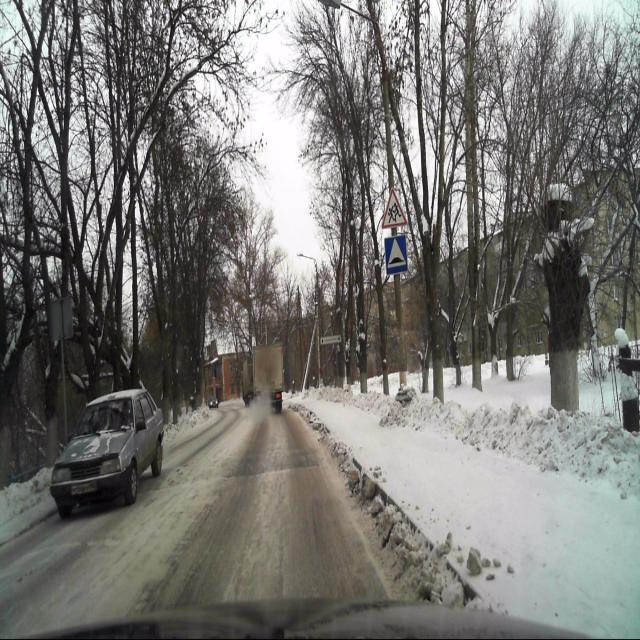road sign: (382, 186, 407, 228), (384, 235, 408, 274)
